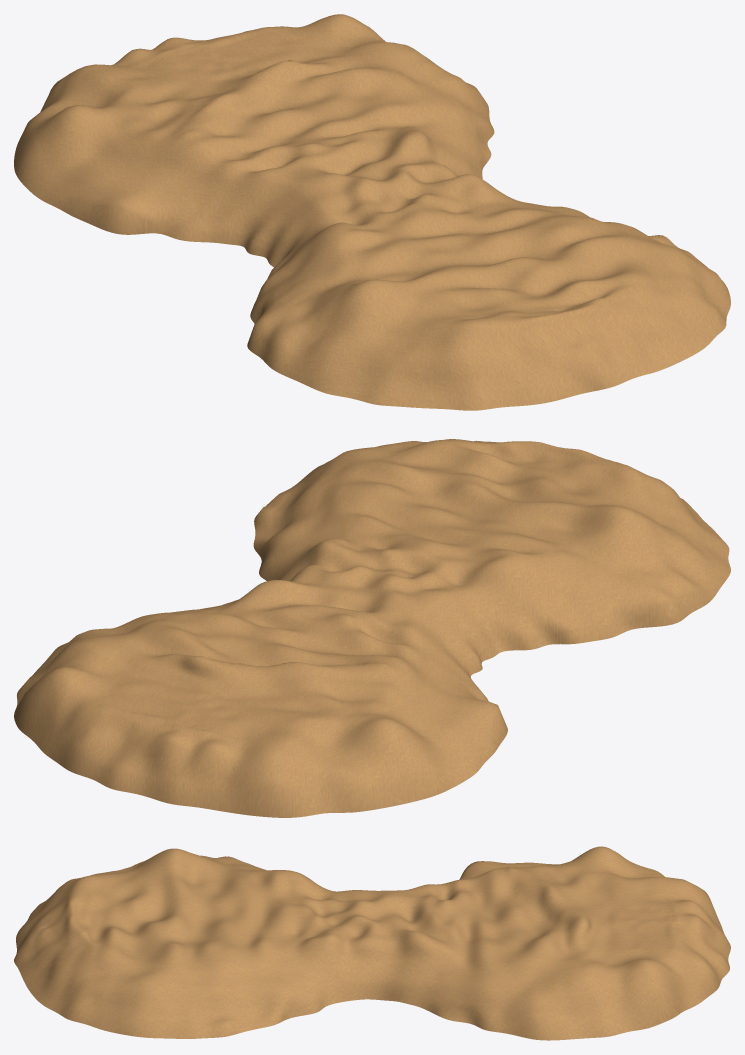
The model's file is Dessert (2).fbx.
3 renders of one model, top to bottom at view 1: azimuth 30°, elevation 25°; view 2: azimuth 150°, elevation 25°; view 3: azimuth 270°, elevation 25°, orthographic. The views are drawn at different scales.
Visible parts, largest first — view 1: Desert__1_; view 2: Desert__1_; view 3: Desert__1_.
Boxes of the visible parts, x1,y1,x2,y2 form: Desert__1_: (14, 14, 730, 410); Desert__1_: (14, 439, 730, 817); Desert__1_: (14, 846, 730, 1040).
Bounding box in the file's own units: 36771 × 5592 × 64843.
